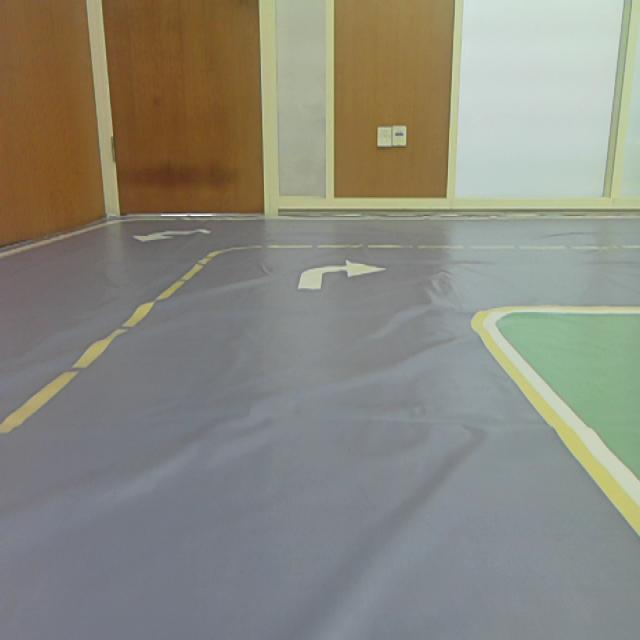left_lane: (0, 250, 217, 440)
right_lane: (471, 323, 640, 539)
